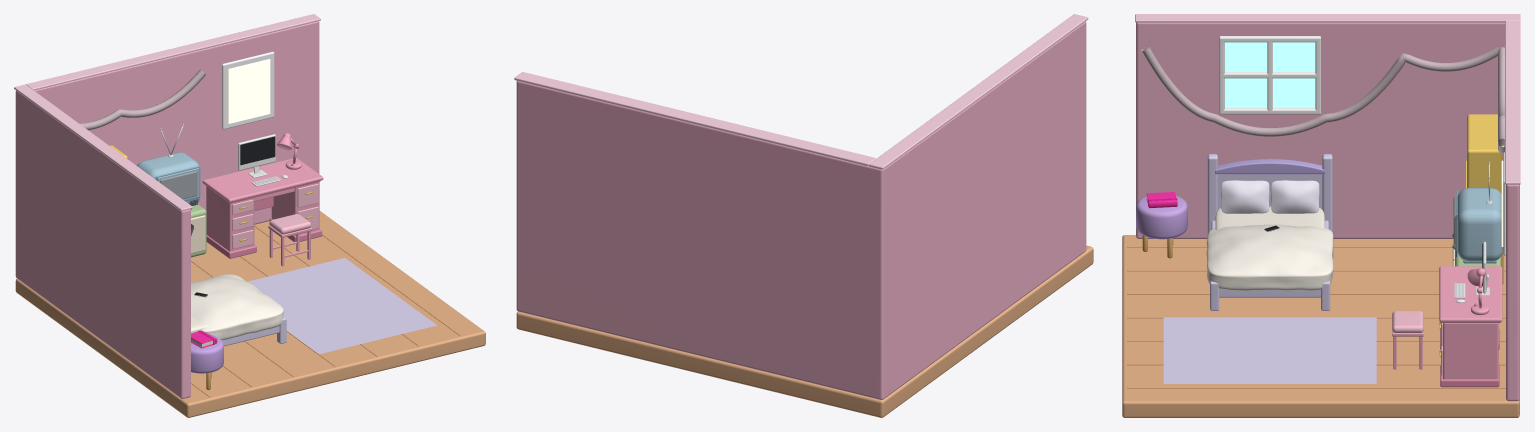
File: girl_room.glb
3 views of the same model, side by side, from view 1: azimuth 30°, elevation 25°; view 2: azimuth 150°, elevation 25°; view 3: azimuth 270°, elevation 25° (orthographic). The views are drawn at different scales.
Parts seen in each view (by area): view 1: wall_L, wall_B, floor, rug_mat, duvet, wall_B_cap, desk_top, frame_inner, wall_L_cap, ped-1, frame_border, fairy_hit_B (+8 smaller); view 2: wall_B, wall_L, floor, wall_B_cap, wall_L_cap; view 3: wall_L, floor, rug_mat, duvet, win_sky, fairy_hit_L, wall_L_cap, ped1, tv_body, wall_B, desk_top, wall_B_cap (+22 smaller).
Part boxes in pixels (left/top/right/bottom): wall_L: left=16, top=91, right=190, bottom=398; wall_B: left=15, top=21, right=319, bottom=279; floor: left=15, top=211, right=485, bottom=417; rug_mat: left=247, top=258, right=436, bottom=354; duvet: left=191, top=274, right=283, bottom=340; wall_B_cap: left=26, top=14, right=320, bottom=90; desk_top: left=202, top=157, right=323, bottom=202; frame_inner: left=228, top=59, right=270, bottom=123; wall_L_cap: left=14, top=84, right=192, bottom=211; ped-1: left=206, top=186, right=254, bottom=251; frame_border: left=222, top=51, right=274, bottom=129; fairy_hit_B: left=79, top=69, right=205, bottom=130; wall_B: left=516, top=80, right=888, bottom=399; wall_L: left=872, top=21, right=1086, bottom=399; floor: left=516, top=245, right=1093, bottom=417; wall_B_cap: left=514, top=72, right=876, bottom=165; wall_L_cap: left=869, top=14, right=1088, bottom=169; wall_L: left=1136, top=22, right=1504, bottom=238; floor: left=1122, top=235, right=1519, bottom=417; rug_mat: left=1163, top=317, right=1376, bottom=383; duvet: left=1206, top=224, right=1333, bottom=290; win_sky: left=1225, top=42, right=1315, bottom=107; fairy_hit_L: left=1141, top=45, right=1499, bottom=136; wall_L_cap: left=1135, top=14, right=1520, bottom=22; ped1: left=1443, top=323, right=1498, bottom=379; tv_body: left=1457, top=188, right=1503, bottom=261; wall_B: left=1506, top=184, right=1519, bottom=401; desk_top: left=1439, top=266, right=1502, bottom=322; wall_B_cap: left=1505, top=20, right=1520, bottom=184.
Size of the model in its own units: 4.32 by 2.83 by 4.31.
